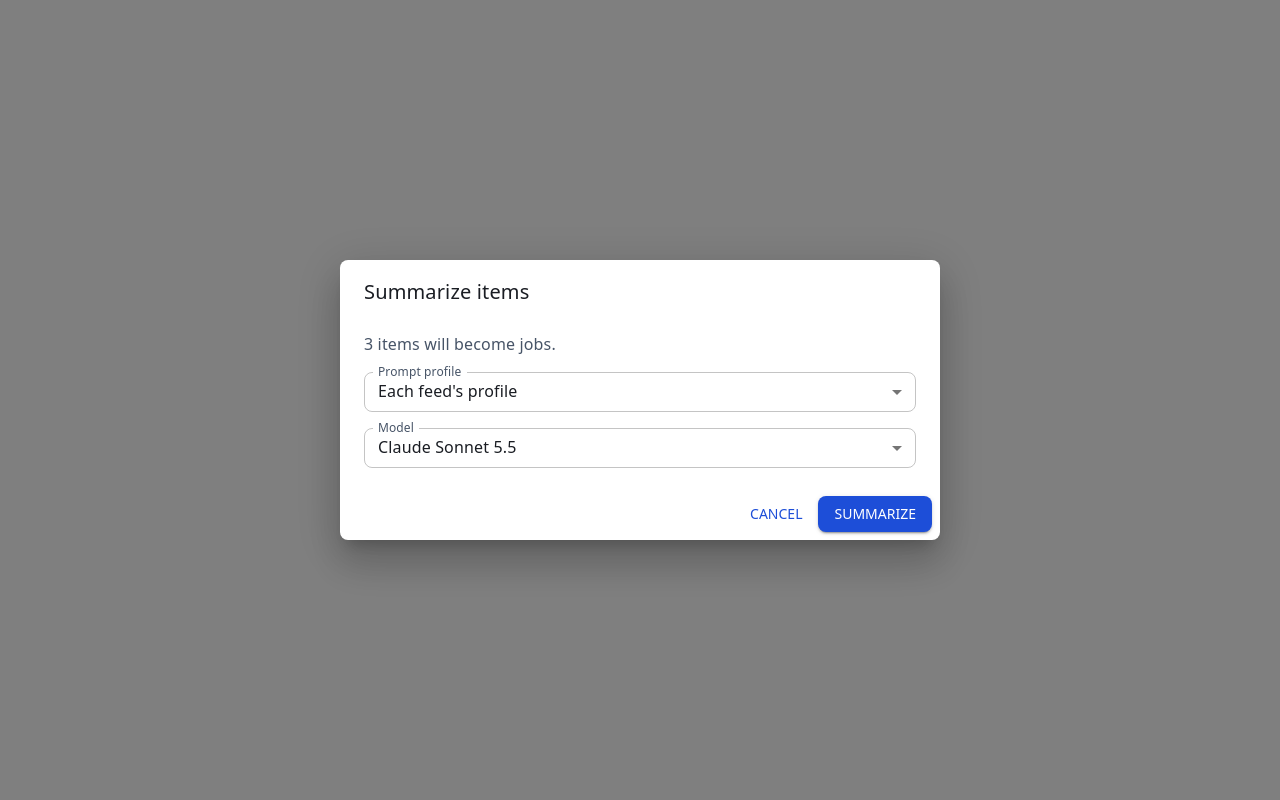
Test: SummarizeItemsDialog › lists Each feed's profile first, then the profiles
Click the dropdown named "Prompt profile" at (448, 391), box [378, 380, 517, 402]
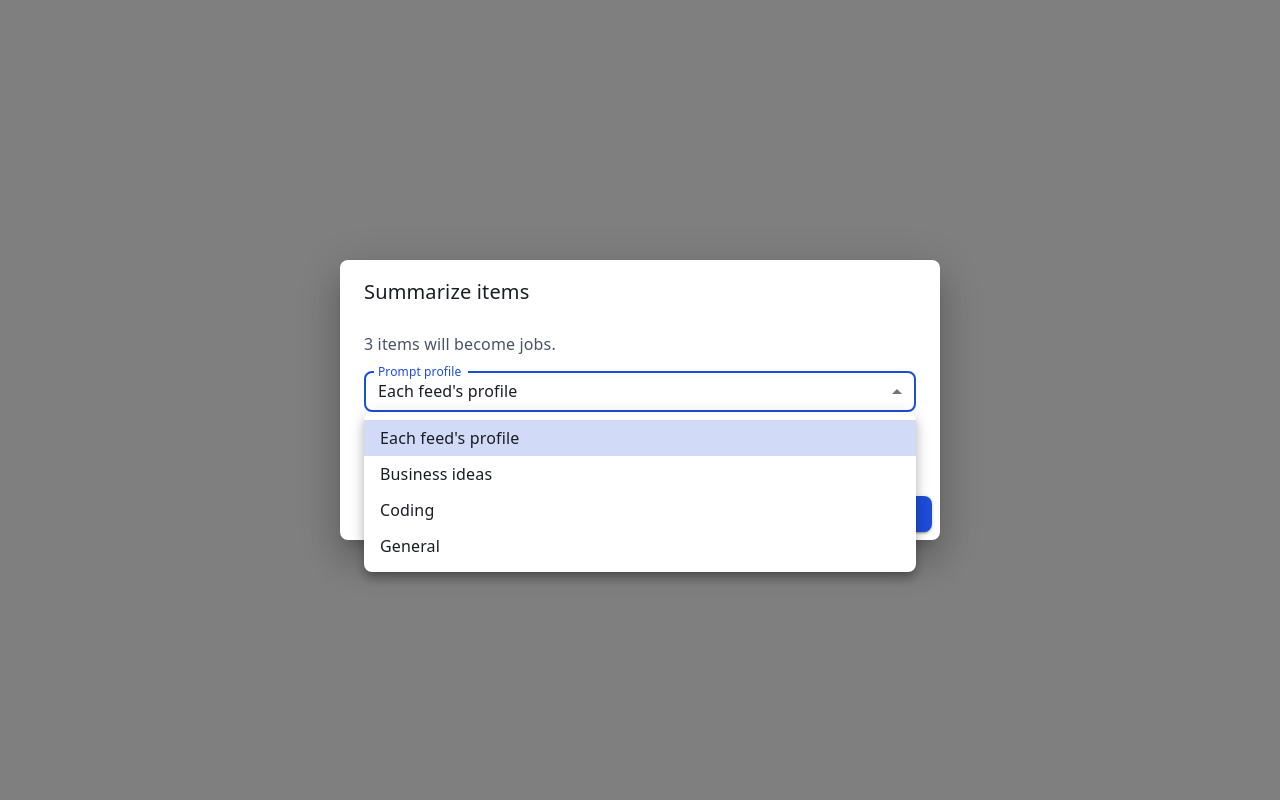
Now the options read "Each feed's profile", "Business ideas", "Coding", "General", in this order, box [364, 420, 916, 456]; [380, 463, 492, 485]; [380, 499, 434, 521]; [380, 535, 440, 557]
